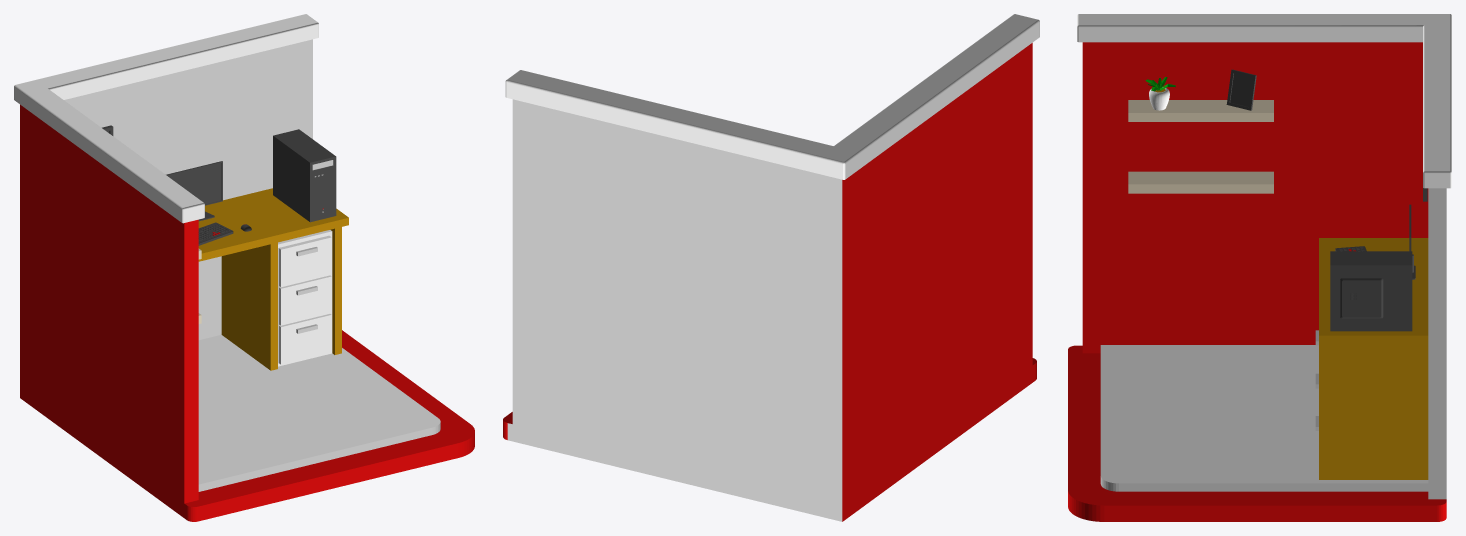
The model's file is lowpoly_desk_custom.glb.
3 renders of one model, left to right at view 1: azimuth 30°, elevation 25°; view 2: azimuth 150°, elevation 25°; view 3: azimuth 270°, elevation 25°, orthographic. The views are drawn at different scales.
Visible parts, largest first — view 1: Node1; view 2: Node1; view 3: Node1.
Part boxes in pixels (<box>): Node1: <box>14,14,474,521</box>; Node1: <box>503,14,1039,521</box>; Node1: <box>1068,14,1451,521</box>.
Bounding box in the file's own units: 63.3 × 63 × 63.3.
